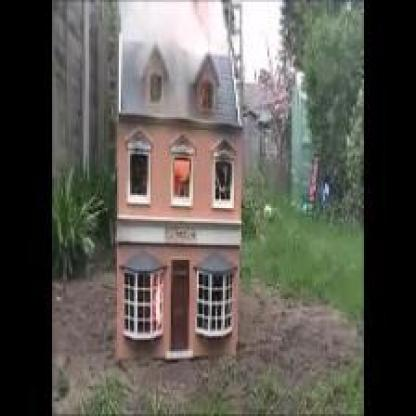fire: (168, 153, 194, 199)
smoke: (118, 7, 188, 110)
